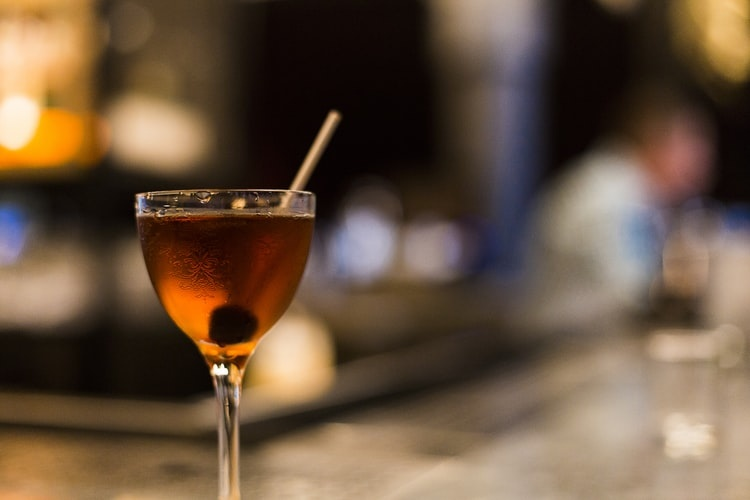whiskey: (143, 182, 318, 500)
